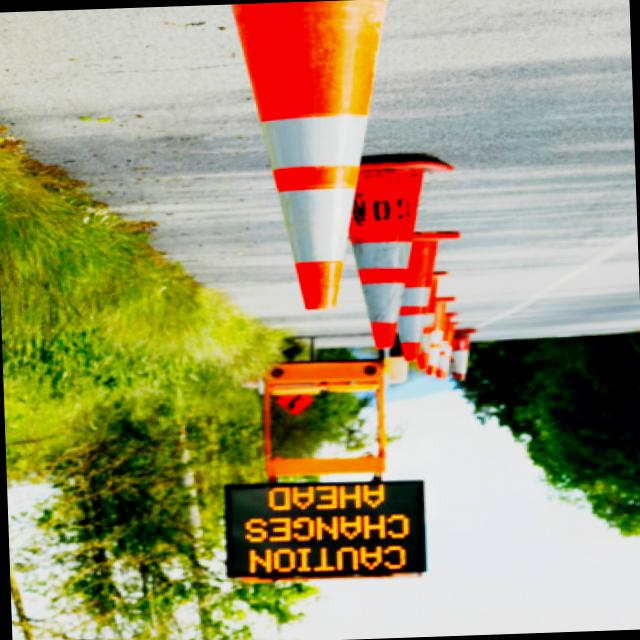cone: (219, 0, 389, 313), (318, 152, 460, 352)
